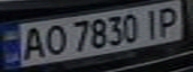0: (121, 11, 142, 43)
3: (106, 12, 127, 47)
7: (66, 18, 90, 52)
8: (87, 16, 109, 50)
A: (15, 25, 48, 61)
I: (139, 6, 163, 39)
O: (39, 22, 69, 56)
P: (154, 3, 184, 38)
